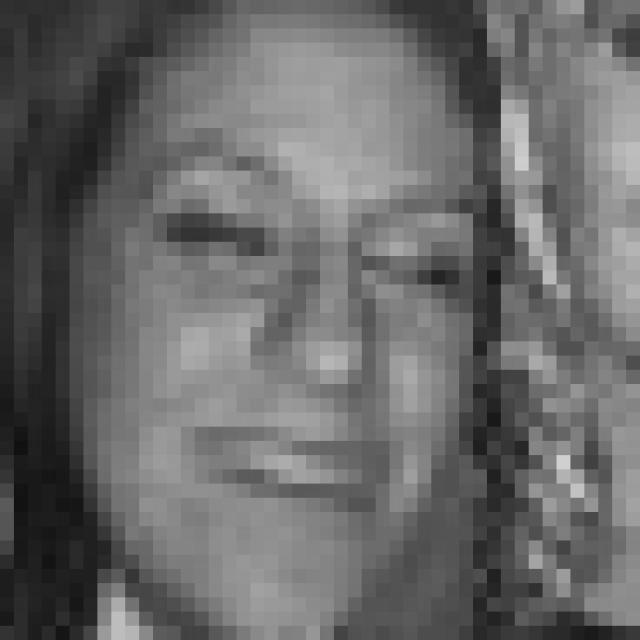real: (52, 7, 502, 640), (160, 180, 485, 314)
